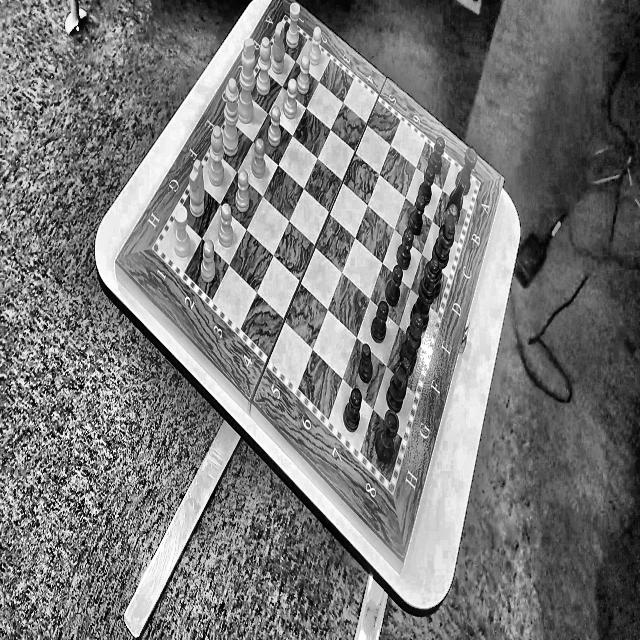chessboard: (160, 18, 475, 481)
